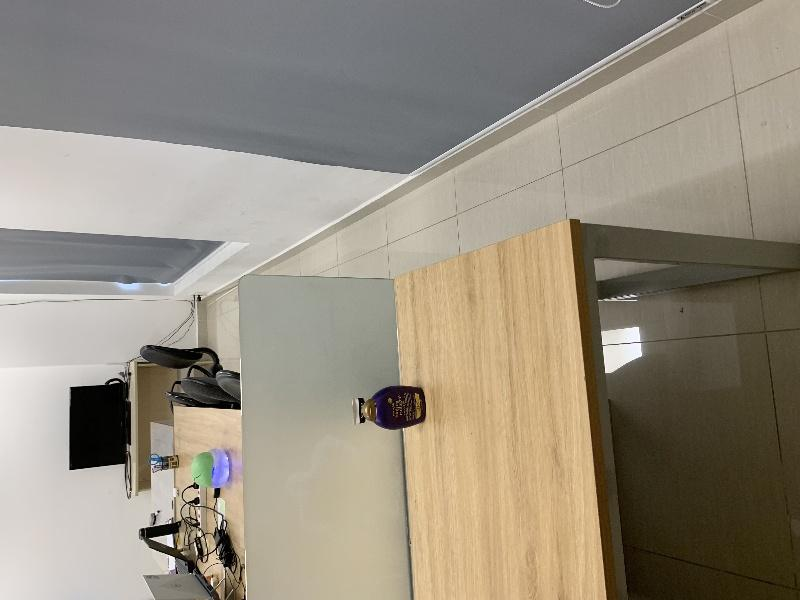BiotinCollagen_Shampoo: (363, 385, 426, 430)
